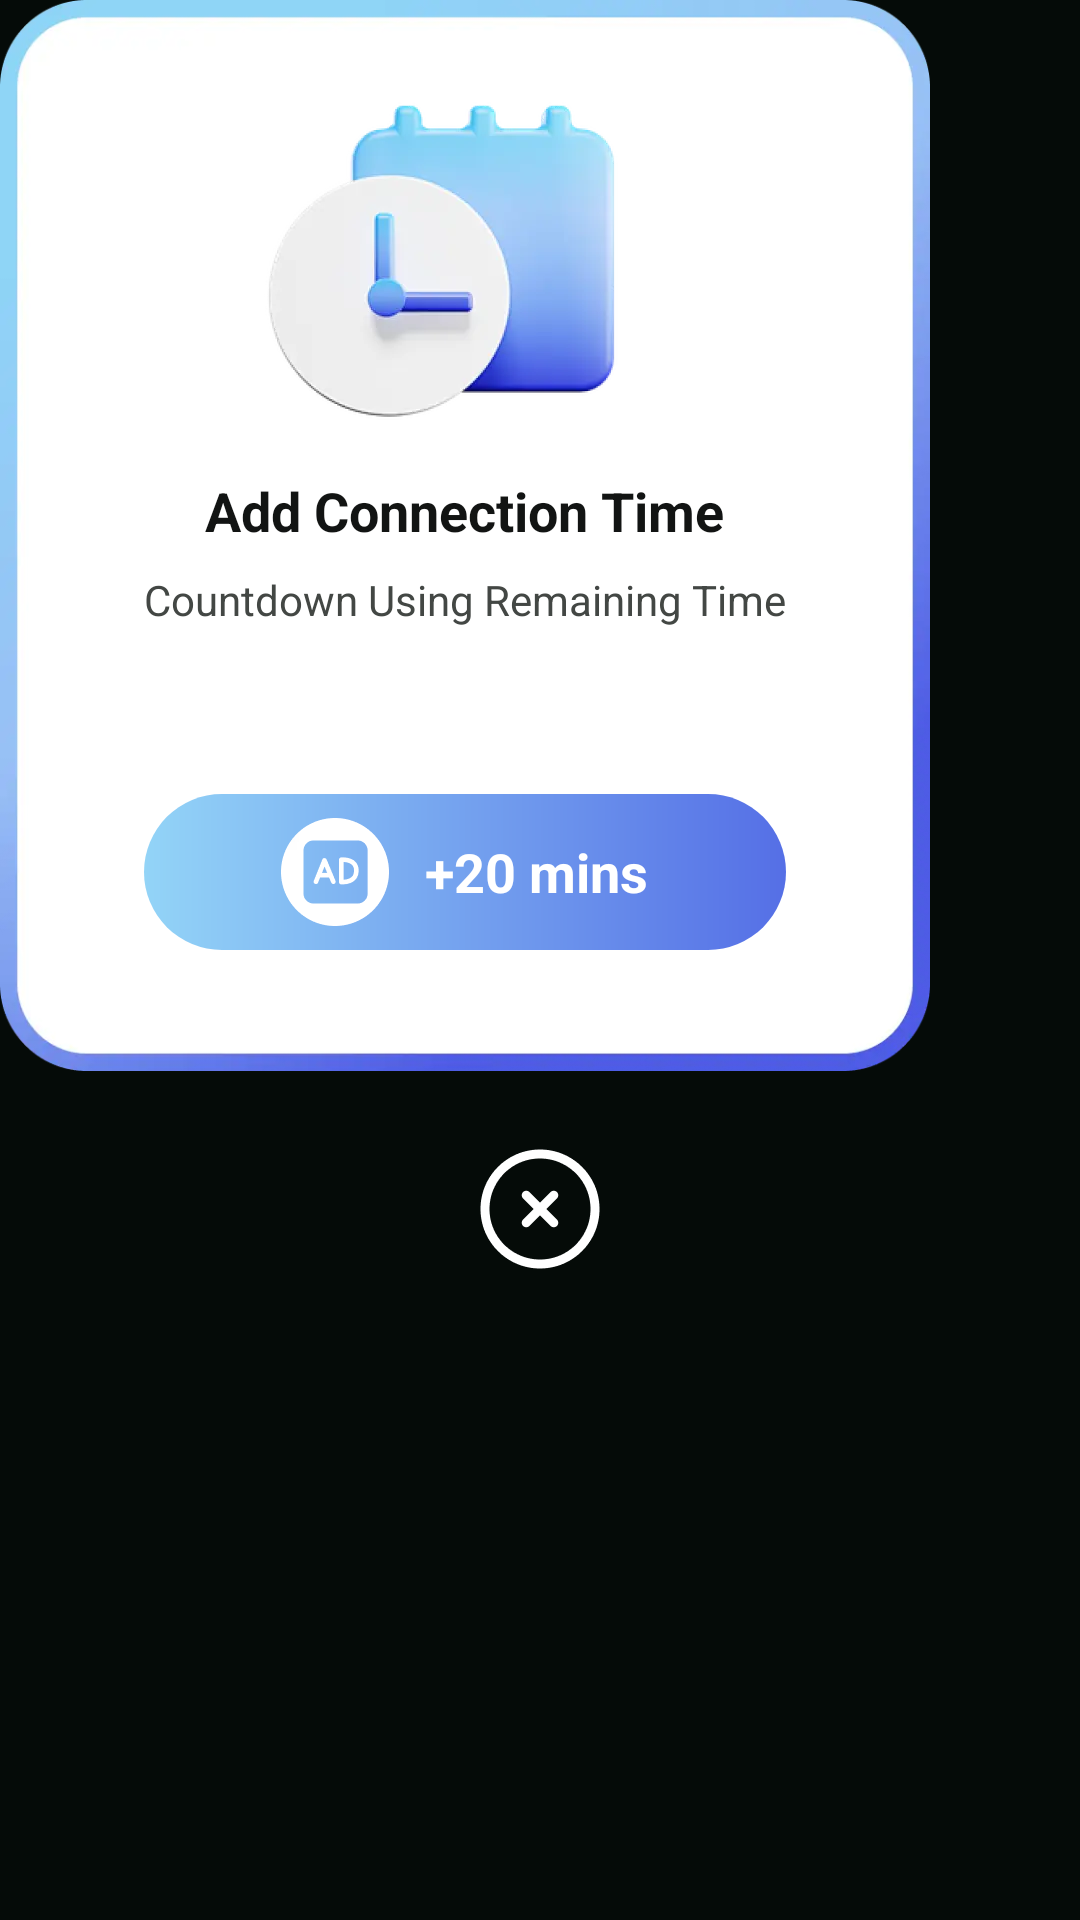

Icons on this 1080 x 1920 Android screen, each with the point to tap as point (x, y):
add time tip: point (442, 261)
close: point (540, 1209)
